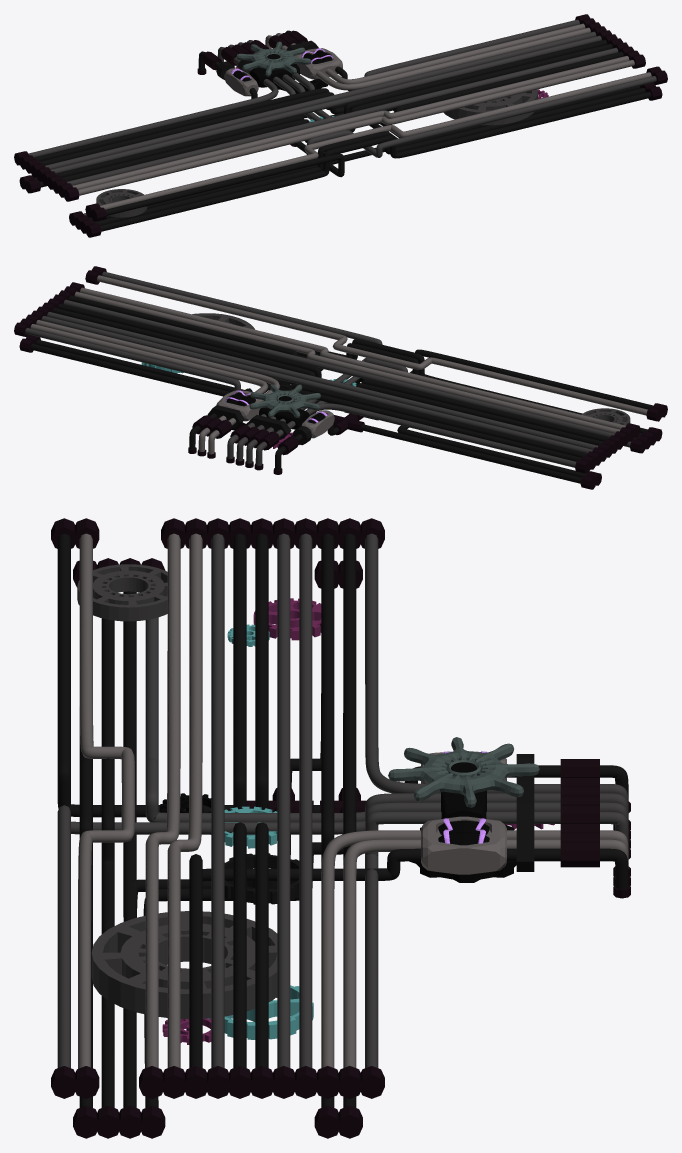
Rendered from st2_rail1.fbx.
3 renders of one model, top to bottom at view 1: azimuth 30°, elevation 25°; view 2: azimuth 150°, elevation 25°; view 3: azimuth 270°, elevation 25°, orthographic. The views are drawn at different scales.
Parts seen in each view (by area): view 1: 1_rail_pipe7, 1_rail_pipe6, 1_rail_pipe1, 1_rail_pipe2, 1_rail_pipe4, 1_rail_pipe3, 1_rail_pipe_tie2, 1_rain_handle, 1_rail__gear5, 1_rail_pipe_tie1, 1_rail_pipe_tie3, 1_rail__gear12 (+4 smaller); view 2: 1_rail_pipe7, 1_rail_pipe6, 1_rail_pipe1, 1_rail_pipe2, 1_rail_pipe4, 1_rail_pipe3, 1_rail_pipe_tie2, 1_rail_pipe_tie1, 1_rain_handle, 1_rail_pipe_tie4, 1_rail_pipe_tie3, 1_rail__gear12 (+6 smaller); view 3: 1_rail_pipe7, 1_rail_pipe6, 1_rail_pipe1, 1_rail_pipe2, 1_rail_pipe4, 1_rail_pipe_tie2, 1_rail__gear5, 1_rail_pipe3, 1_rail_pipe_tie3, 1_rain_handle, 1_rail_pipe_tie1, 1_rail__gear12 (+7 smaller).
Part boxes in pixels (bbox=[...]): 1_rail_pipe7: bbox=[34, 39, 651, 231]; 1_rail_pipe6: bbox=[72, 56, 651, 209]; 1_rail_pipe1: bbox=[45, 31, 618, 185]; 1_rail_pipe2: bbox=[28, 19, 656, 215]; 1_rail_pipe4: bbox=[34, 30, 640, 219]; 1_rail_pipe3: bbox=[265, 23, 590, 90]; 1_rail_pipe_tie2: bbox=[14, 14, 667, 221]; 1_rain_handle: bbox=[236, 41, 311, 76]; 1_rail__gear5: bbox=[443, 89, 537, 125]; 1_rail_pipe_tie1: bbox=[202, 30, 307, 70]; 1_rail_pipe_tie3: bbox=[19, 82, 662, 237]; 1_rail__gear12: bbox=[96, 189, 147, 217]; 1_rail_pipe7: bbox=[30, 303, 647, 461]; 1_rail_pipe6: bbox=[74, 275, 647, 433]; 1_rail_pipe1: bbox=[41, 299, 614, 453]; 1_rail_pipe2: bbox=[25, 271, 630, 467]; 1_rail_pipe4: bbox=[69, 295, 653, 483]; 1_rail_pipe3: bbox=[30, 320, 279, 454]; 1_rail_pipe_tie2: bbox=[14, 266, 667, 473]; 1_rail_pipe_tie1: bbox=[192, 415, 298, 455]; 1_rain_handle: bbox=[249, 384, 320, 417]; 1_rail_pipe_tie4: bbox=[207, 405, 311, 445]; 1_rail_pipe_tie3: bbox=[19, 334, 662, 489]; 1_rail__gear12: bbox=[581, 408, 630, 425]; 1_rail_pipe7: bbox=[79, 533, 356, 1107]; 1_rail_pipe6: bbox=[78, 533, 202, 1068]; 1_rail_pipe1: bbox=[211, 533, 312, 1067]; 1_rail_pipe2: bbox=[57, 533, 628, 1067]; 1_rail_pipe4: bbox=[57, 533, 628, 1107]; 1_rail_pipe_tie2: bbox=[51, 518, 384, 1098]; 1_rail__gear5: bbox=[91, 911, 277, 1018]; 1_rail_pipe3: bbox=[321, 830, 628, 1067]; 1_rail_pipe_tie3: bbox=[73, 558, 362, 1138]; 1_rain_handle: bbox=[388, 737, 539, 807]; 1_rail_pipe_tie1: bbox=[560, 759, 599, 867]; 1_rail__gear12: bbox=[77, 564, 167, 621].
Bounding box in the file's own units: 3000 × 223 × 1320.
